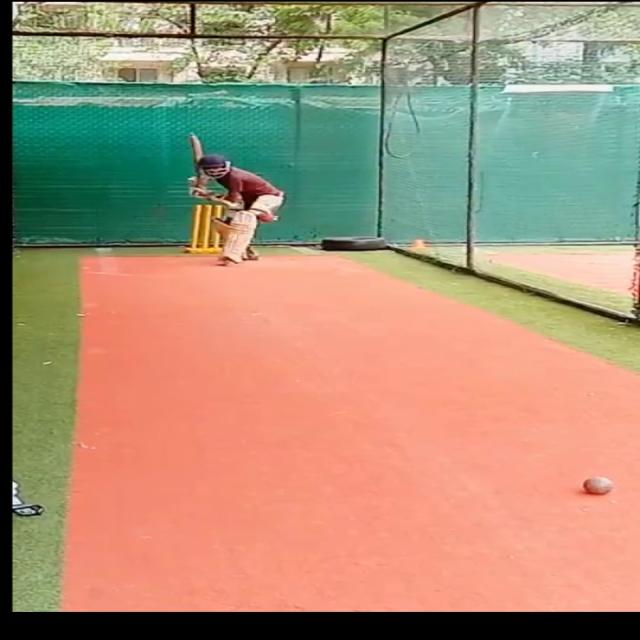ball: (575, 473, 616, 498)
stump: (188, 205, 223, 252)
